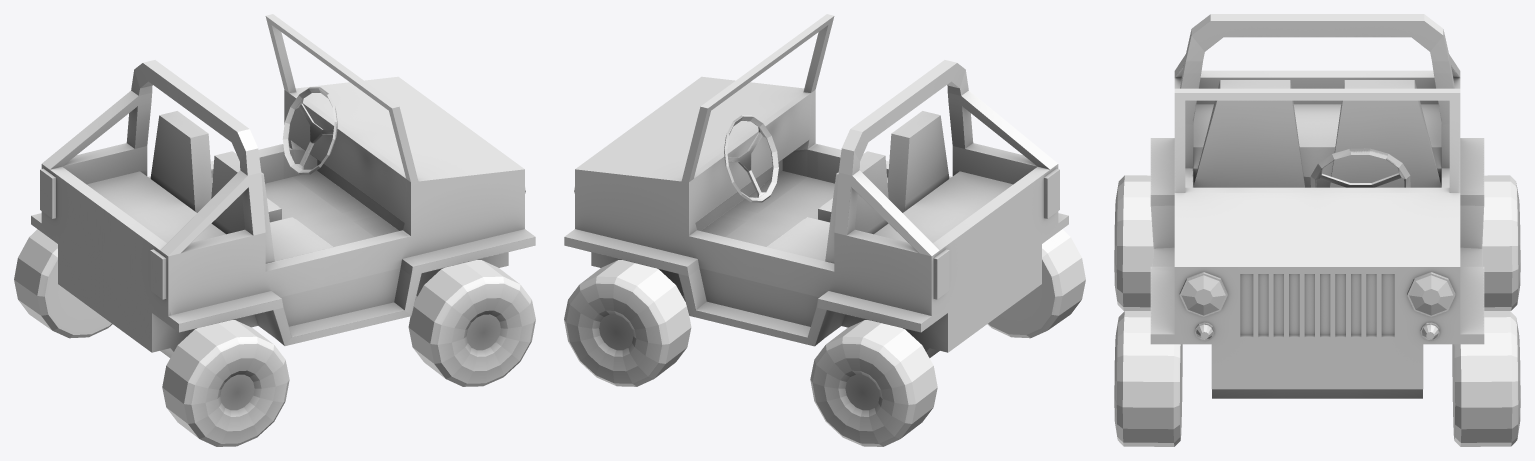
The model's file is truck.glb.
3 views of the same model, side by side, from view 1: azimuth 30°, elevation 25°; view 2: azimuth 150°, elevation 25°; view 3: azimuth 270°, elevation 25° (orthographic). The views are drawn at different scales.
Parts seen in each view (by area): view 1: Body, TireBR, TireFR, TireBL, SteeringWheel; view 2: Body, TireBL, TireFL, TireBR, SteeringWheel; view 3: Body, TireFR, TireFL, TireBR, TireBL, SteeringWheel.
Part boxes in pixels (x1,y1,x2,y2): Body: (31,14,535,357); TireBR: (162,320,289,446); TireFR: (408,260,535,386); TireBL: (14,229,112,338); SteeringWheel: (282,87,337,174); Body: (564,14,1068,357); TireBL: (810,320,937,446); TireFL: (564,260,691,386); TireBR: (987,229,1085,338); SteeringWheel: (724,115,778,202); Body: (1150,14,1484,398); TireFR: (1114,311,1182,446); TireFL: (1452,311,1520,446); TireBR: (1114,175,1153,310); TireBL: (1482,175,1520,310); SteeringWheel: (1310,148,1410,187).
Size of the model in its own units: 4.83 by 3.45 by 4.05.
3 materials, 3 textured.
